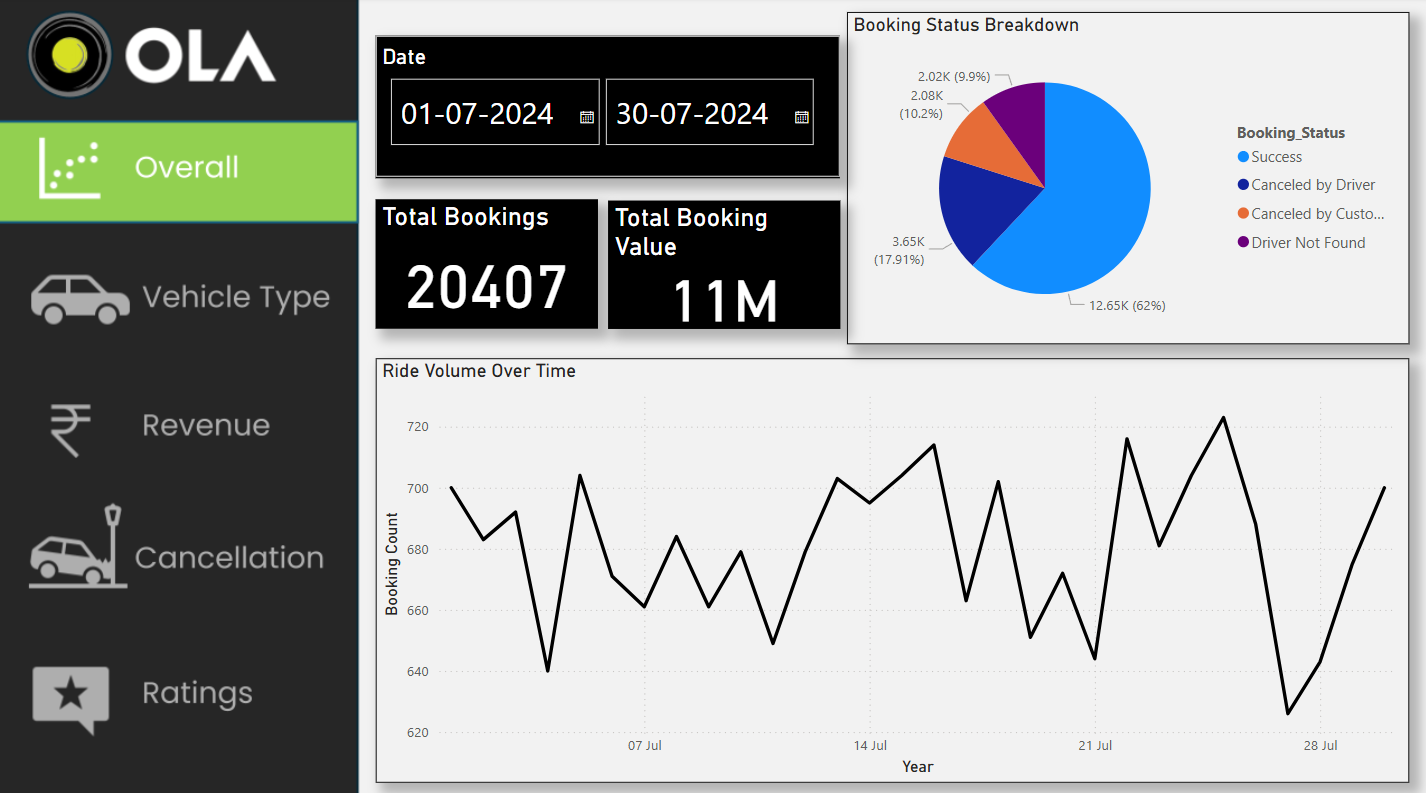

Layout of this report page (visuals, bound fields, positions):
{"tool":"powerbi","page":{"name":"Overall","canvas":[1280,720],"ordinal":0},"visuals":[{"type":"actionButton","box":[0,217.7,321.6,91.6],"z":0},{"type":"actionButton","box":[0,340.6,321.6,90.4],"z":1000},{"type":"actionButton","box":[0,444.4,321.6,102.7],"z":2000},{"type":"actionButton","box":[0,579.5,321.6,89.3],"z":3000},{"type":"lineChart","title":"Ride Volume Over Time","fields":{"Y":["CountNonNull(Bookings-20000-Rows xlsx - July.Booking_ID)"],"Category":["Bookings-20000-Rows xlsx - July.Date.Variation.Date Hierarchy.Year","Bookings-20000-Rows xlsx - July.Date.Variation.Date Hierarchy.Quarter","Bookings-20000-Rows xlsx - July.Date.Variation.Date Hierarchy.Month","Bookings-20000-Rows xlsx - July.Date.Variation.Date Hierarchy.Day"]},"box":[338.4,322.7,923.5,379.1],"z":4000},{"type":"pieChart","title":"Booking Status Breakdown ","fields":{"Category":["Bookings-20000-Rows xlsx - July.Booking_Status"],"Y":["CountNonNull(Bookings-20000-Rows xlsx - July.Booking_Status)"]},"box":[759.5,13.1,502.4,296.5],"z":5000},{"type":"slicer","title":"Date","fields":{"Values":["Bookings-20000-Rows xlsx - July.Date"]},"box":[338.4,34.1,414.5,127.2],"z":6000},{"type":"card","title":"Total Bookings","fields":{"Values":["CountNonNull(Bookings-20000-Rows xlsx - July.Booking_ID)"]},"box":[338.4,181,198.1,115.4],"z":7000},{"type":"card","title":"Total Booking Value","fields":{"Values":["Sum(Bookings-20000-Rows xlsx - July.Booking_Value)"]},"box":[545.7,182.3,207.3,114.1],"z":8000}]}

Visuals, with their boxes in screenshot pixels (x1, y1, x2, y2), scaled from the page's 1280x720 canvas onto the 1426x793 screenshot:
actionButton: bbox=[0, 240, 358, 341]
actionButton: bbox=[0, 375, 358, 475]
actionButton: bbox=[0, 489, 358, 603]
actionButton: bbox=[0, 638, 358, 737]
"Ride Volume Over Time" lineChart: bbox=[377, 355, 1406, 773]
"Booking Status Breakdown " pieChart: bbox=[846, 14, 1406, 341]
"Date" slicer: bbox=[377, 38, 839, 178]
"Total Bookings" card: bbox=[377, 199, 598, 326]
"Total Booking Value" card: bbox=[608, 201, 839, 326]
